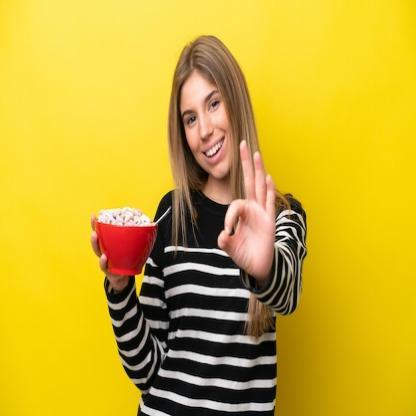ok: (217, 138, 278, 286)
